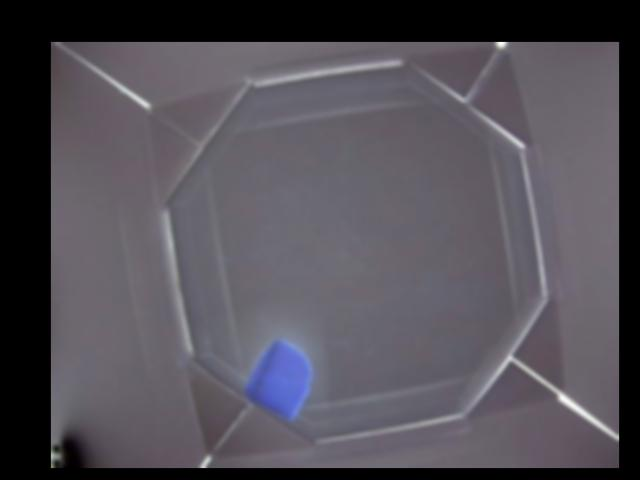Potato: (242, 341, 313, 418)
